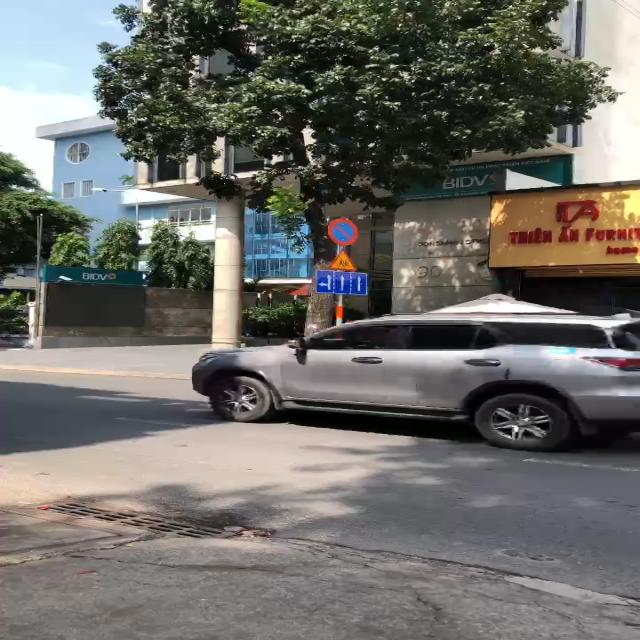Bien bao tre em: (325, 248, 363, 272)
